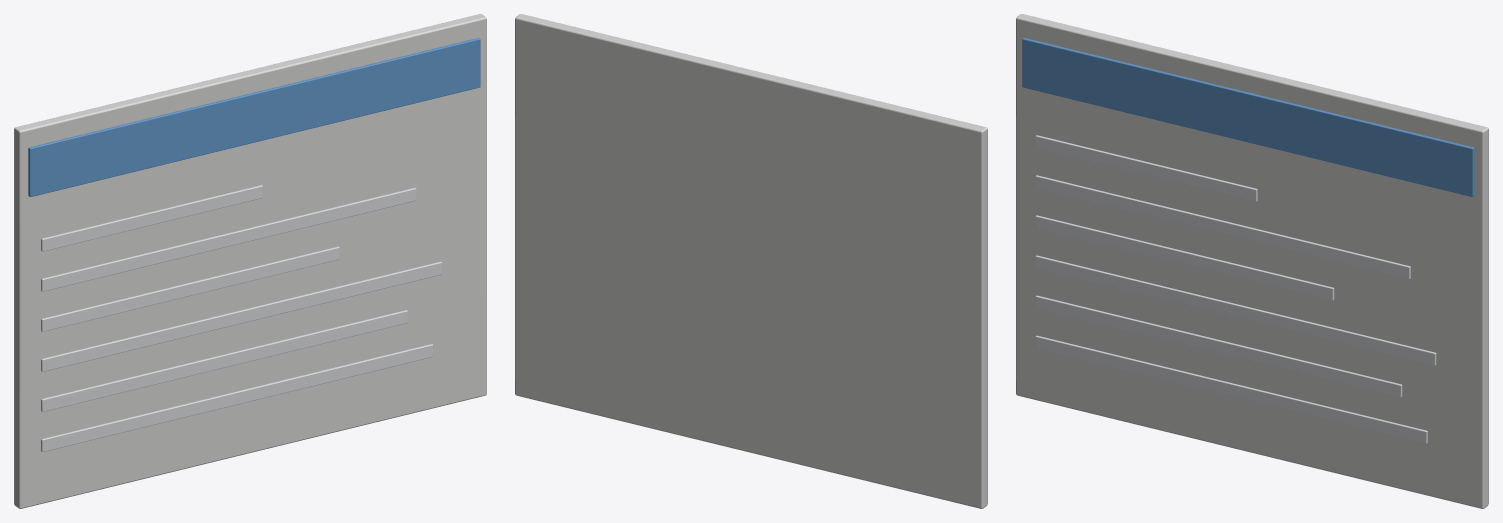
The model's file is art-gallery-and-exhibition-rooms-wall-text-panel-c987f386.glb.
3 renders of one model, left to right at view 1: azimuth 30°, elevation 25°; view 2: azimuth 150°, elevation 25°; view 3: azimuth 330°, elevation 25°, orthographic.
Parts seen in each view (by area): view 1: wall-text-panel; view 2: wall-text-panel; view 3: wall-text-panel.
Boxes of the visible parts, x1,y1,x2,y2 form: wall-text-panel: [14, 14, 486, 508]; wall-text-panel: [515, 14, 987, 508]; wall-text-panel: [1016, 14, 1488, 508].
Size of the model in its own units: 1.1 by 0.85 by 0.033.
